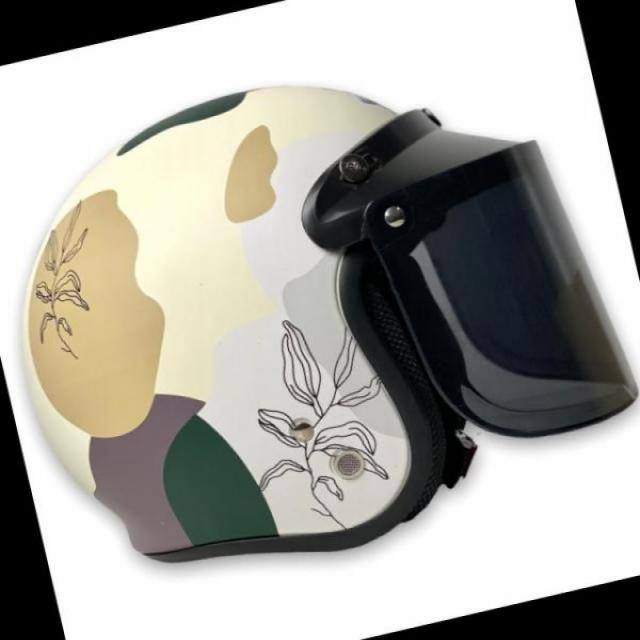Helmet: (32, 102, 640, 607)
